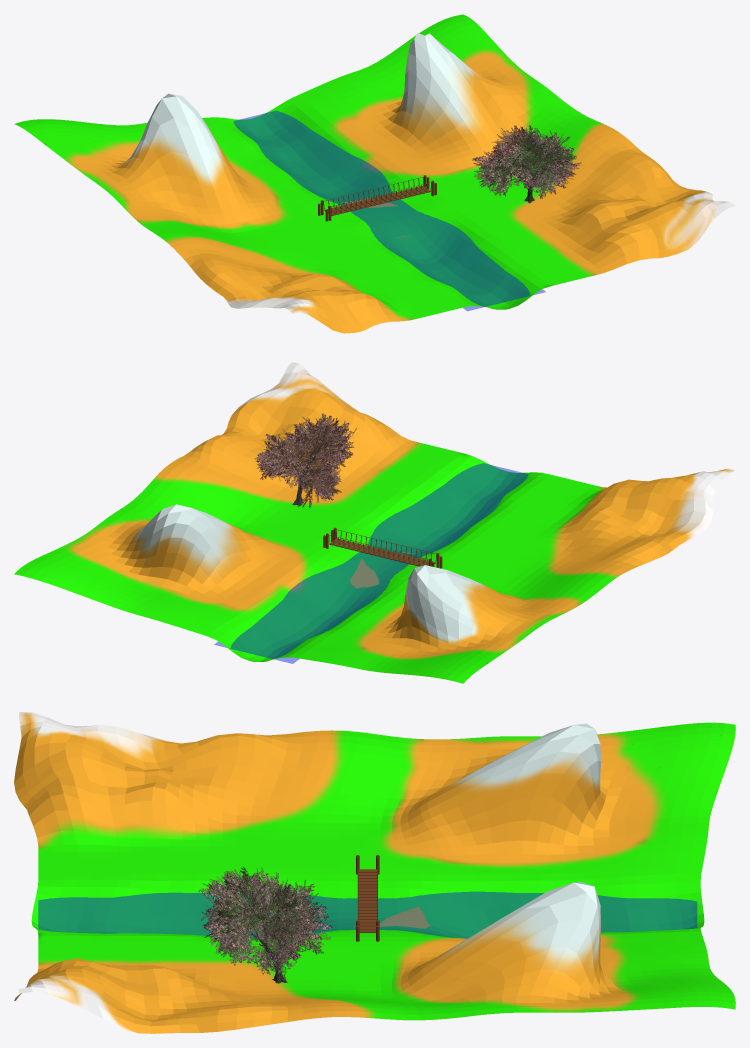
The model's file is landscape.gltf.
3 views of the same model, one above another, from view 1: azimuth 30°, elevation 25°; view 2: azimuth 150°, elevation 25°; view 3: azimuth 270°, elevation 25° (orthographic). The views are drawn at different scales.
Parts seen in each view (by area): view 1: landscape, water, Object_4, Object_7, Object_3, Object_5, Object_6, Object_8; view 2: landscape, water, Object_4, Object_6, Object_5, Object_7, Object_3, Object_8, sand; view 3: landscape, water, Object_5, Object_4, Object_6, Object_3, Object_7, Object_8, sand.
Boxes of the visible parts, bbox=[...] form: landscape: bbox=[14, 14, 735, 333]; water: bbox=[233, 110, 545, 311]; Object_4: bbox=[478, 127, 572, 192]; Object_7: bbox=[472, 125, 581, 198]; Object_3: bbox=[474, 128, 575, 196]; Object_5: bbox=[474, 128, 578, 193]; Object_6: bbox=[473, 128, 578, 194]; Object_8: bbox=[476, 125, 578, 191]; landscape: bbox=[14, 362, 735, 683]; water: bbox=[214, 463, 528, 663]; Object_4: bbox=[257, 421, 352, 502]; Object_6: bbox=[257, 416, 353, 507]; Object_5: bbox=[255, 416, 350, 506]; Object_7: bbox=[260, 415, 352, 507]; Object_3: bbox=[256, 413, 352, 502]; Object_8: bbox=[261, 413, 356, 493]; sand: bbox=[350, 551, 414, 588]; landscape: bbox=[14, 712, 735, 1033]; water: bbox=[38, 891, 697, 938]; Object_5: bbox=[198, 868, 323, 968]; Object_4: bbox=[202, 869, 331, 974]; Object_6: bbox=[202, 868, 332, 972]; Object_3: bbox=[205, 867, 314, 981]; Object_7: bbox=[204, 873, 328, 963]; Object_8: bbox=[201, 874, 322, 974]; sand: bbox=[379, 906, 430, 928].
Bounding box in the file's own units: 53.93 × 11.88 × 54.78.
17 materials, 8 textured.
